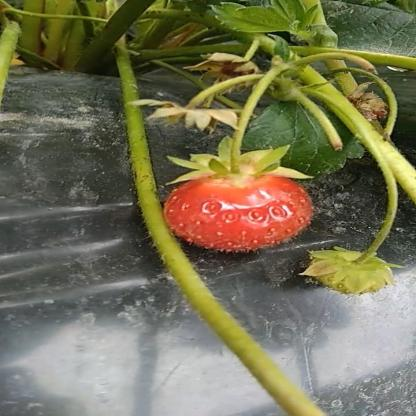ripe: (159, 172, 311, 250)
unripe: (305, 246, 402, 298)
